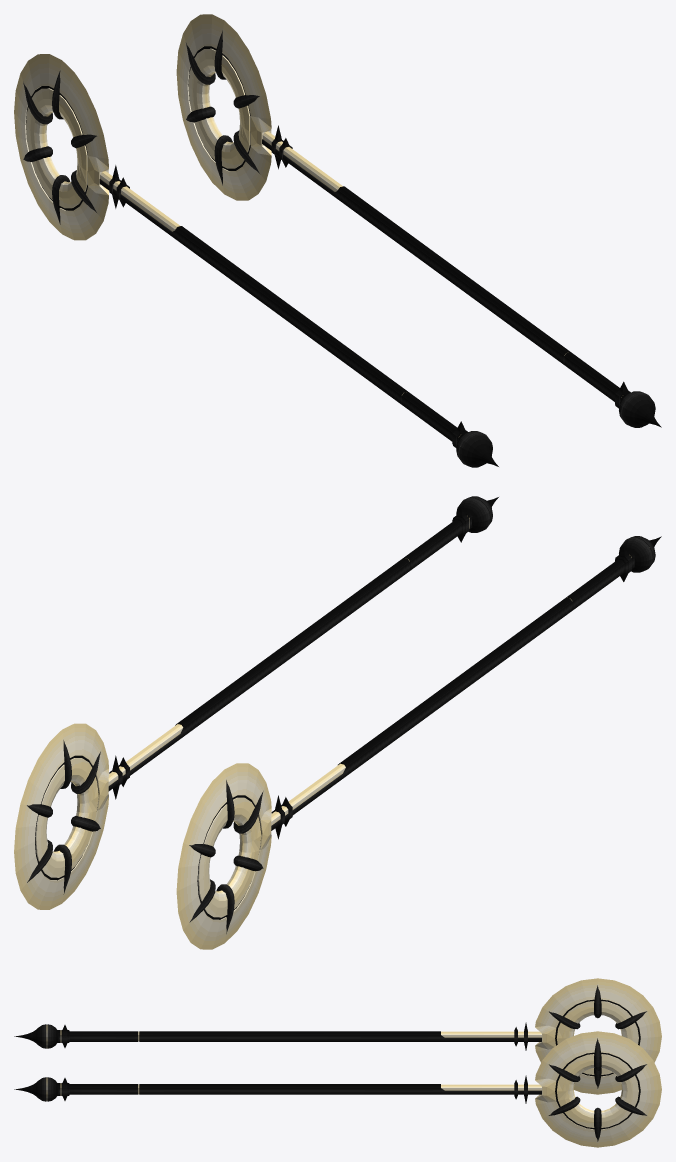
File: orbit.glb
3 views of the same model, one above another, from view 1: azimuth 30°, elevation 25°; view 2: azimuth 150°, elevation 25°; view 3: azimuth 270°, elevation 25° (orthographic). The views are drawn at different scales.
Visible parts, largest first — view 1: main__Tool_R, off__Tool_L; view 2: off__Tool_L, main__Tool_R; view 3: main__Tool_R, off__Tool_L.
Part boxes in pixels (box(x1,y1,x2,y2)): main__Tool_R: box(176, 14, 661, 427); off__Tool_L: box(14, 54, 498, 467); off__Tool_L: box(176, 536, 661, 949); main__Tool_R: box(14, 496, 498, 909); main__Tool_R: box(14, 1031, 661, 1147); off__Tool_L: box(14, 978, 661, 1094).
Bounding box in the file's own units: 1.12 × 0.96 × 4.85.
1 material, 1 textured.
